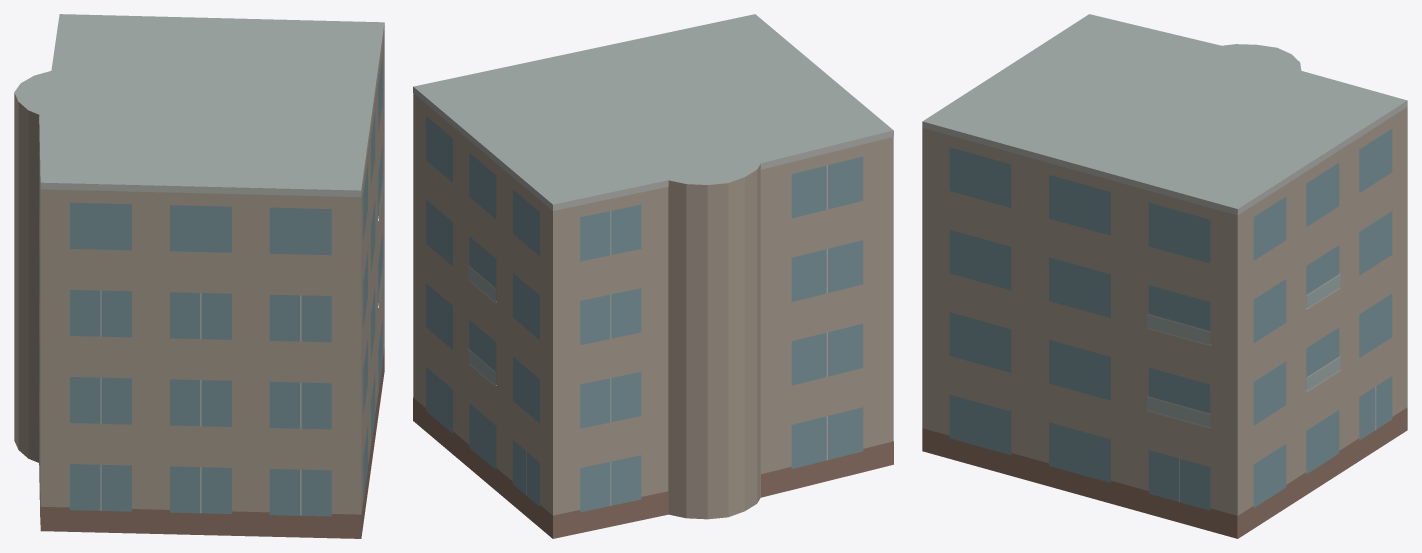
The model's file is survey-upis-32746020.glb.
The picture shows the model from 3 angles, left to right: view 1: azimuth 30°, elevation 25°; view 2: azimuth 150°, elevation 25°; view 3: azimuth 270°, elevation 25°; orthographic projection. The views are drawn at different scales.
Visible parts, largest first — view 1: survey-upis-32746020.tmp; view 2: survey-upis-32746020.tmp; view 3: survey-upis-32746020.tmp.
Part boxes in pixels (left/top/right/bottom): survey-upis-32746020.tmp: left=14, top=14, right=384, bottom=538; survey-upis-32746020.tmp: left=413, top=14, right=893, bottom=538; survey-upis-32746020.tmp: left=922, top=14, right=1407, bottom=538.
Bounding box in the file's own units: 16.25 × 12.8 × 17.08.
